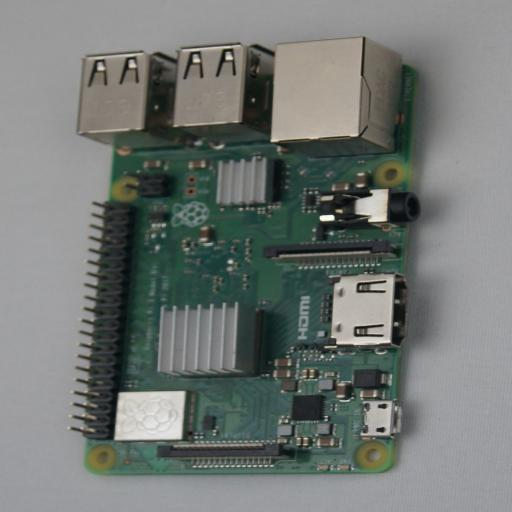Raspberry Pi 3 B-: (71, 36, 439, 476)
